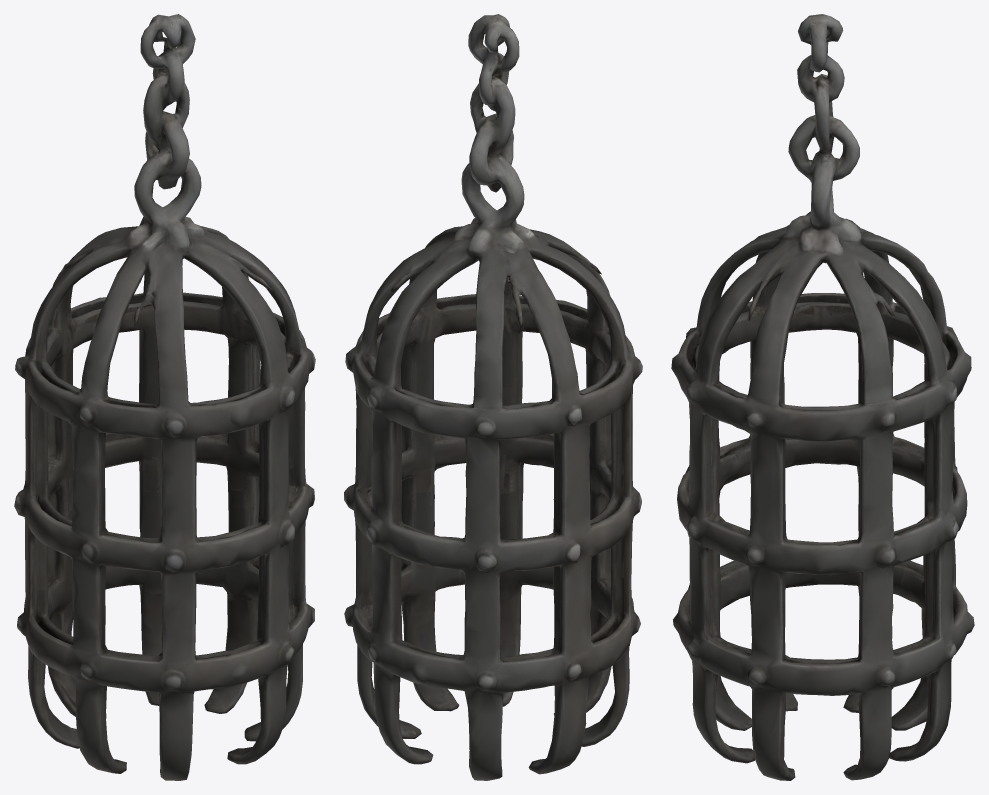
File: hanging_cage.glb
The picture shows the model from 3 angles, left to right: view 1: azimuth 30°, elevation 25°; view 2: azimuth 150°, elevation 25°; view 3: azimuth 270°, elevation 25°; orthographic projection.
Bounding box in the file's own units: 0.7313 × 2 × 0.757.
1 material, 1 textured.
